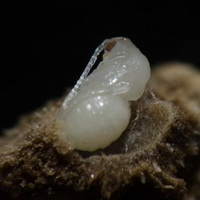insect: (57, 37, 149, 150)
